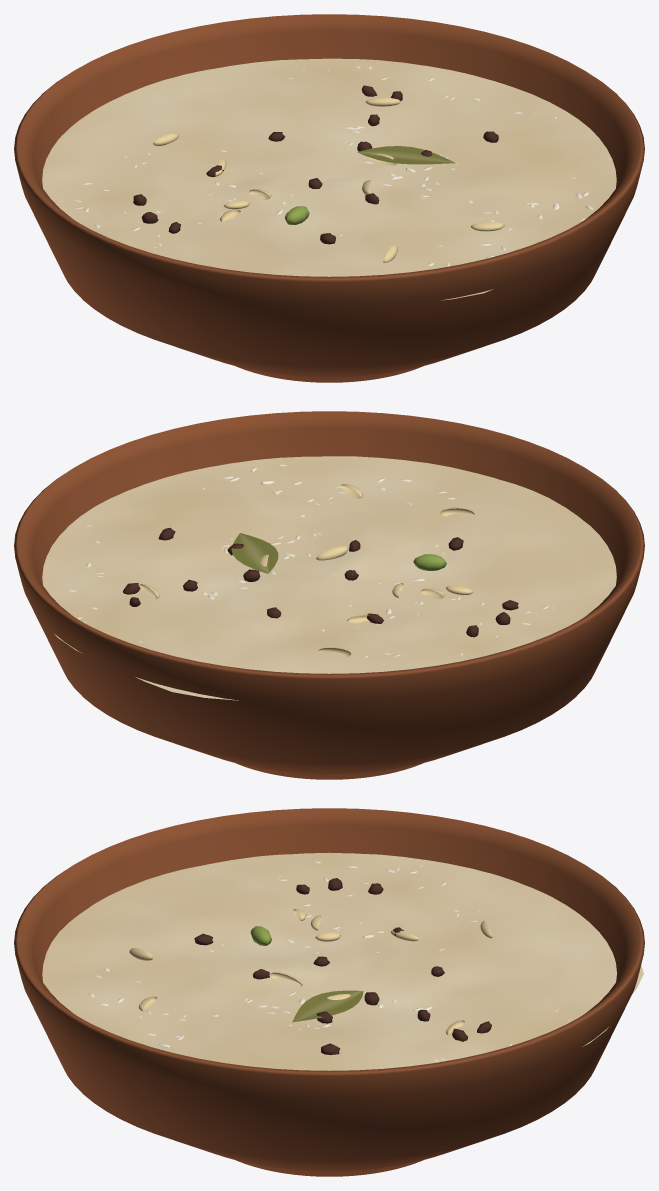
Rendered from rice-payesh.glb.
The picture shows the model from 3 angles, top to bottom: view 1: azimuth 30°, elevation 25°; view 2: azimuth 150°, elevation 25°; view 3: azimuth 270°, elevation 25°; orthographic projection.
Parts seen in each view (by area): view 1: food, clay, garnish, rice; view 2: food, clay, garnish, rice; view 3: food, clay, garnish, rice.
Boxes of the visible parts, x1,y1,x2,y2 form: food: (42,58,616,300); clay: (14,14,644,382); garnish: (133,85,504,262); rice: (59,65,593,266); food: (42,456,616,700); clay: (14,411,644,779); garnish: (123,484,518,656); rice: (67,464,576,670); food: (42,852,643,1070); clay: (14,808,644,1176); garnish: (129,878,492,1054); rice: (74,861,570,1061).
Bounding box in the file's own units: 1.48 × 0.4692 × 1.48.
